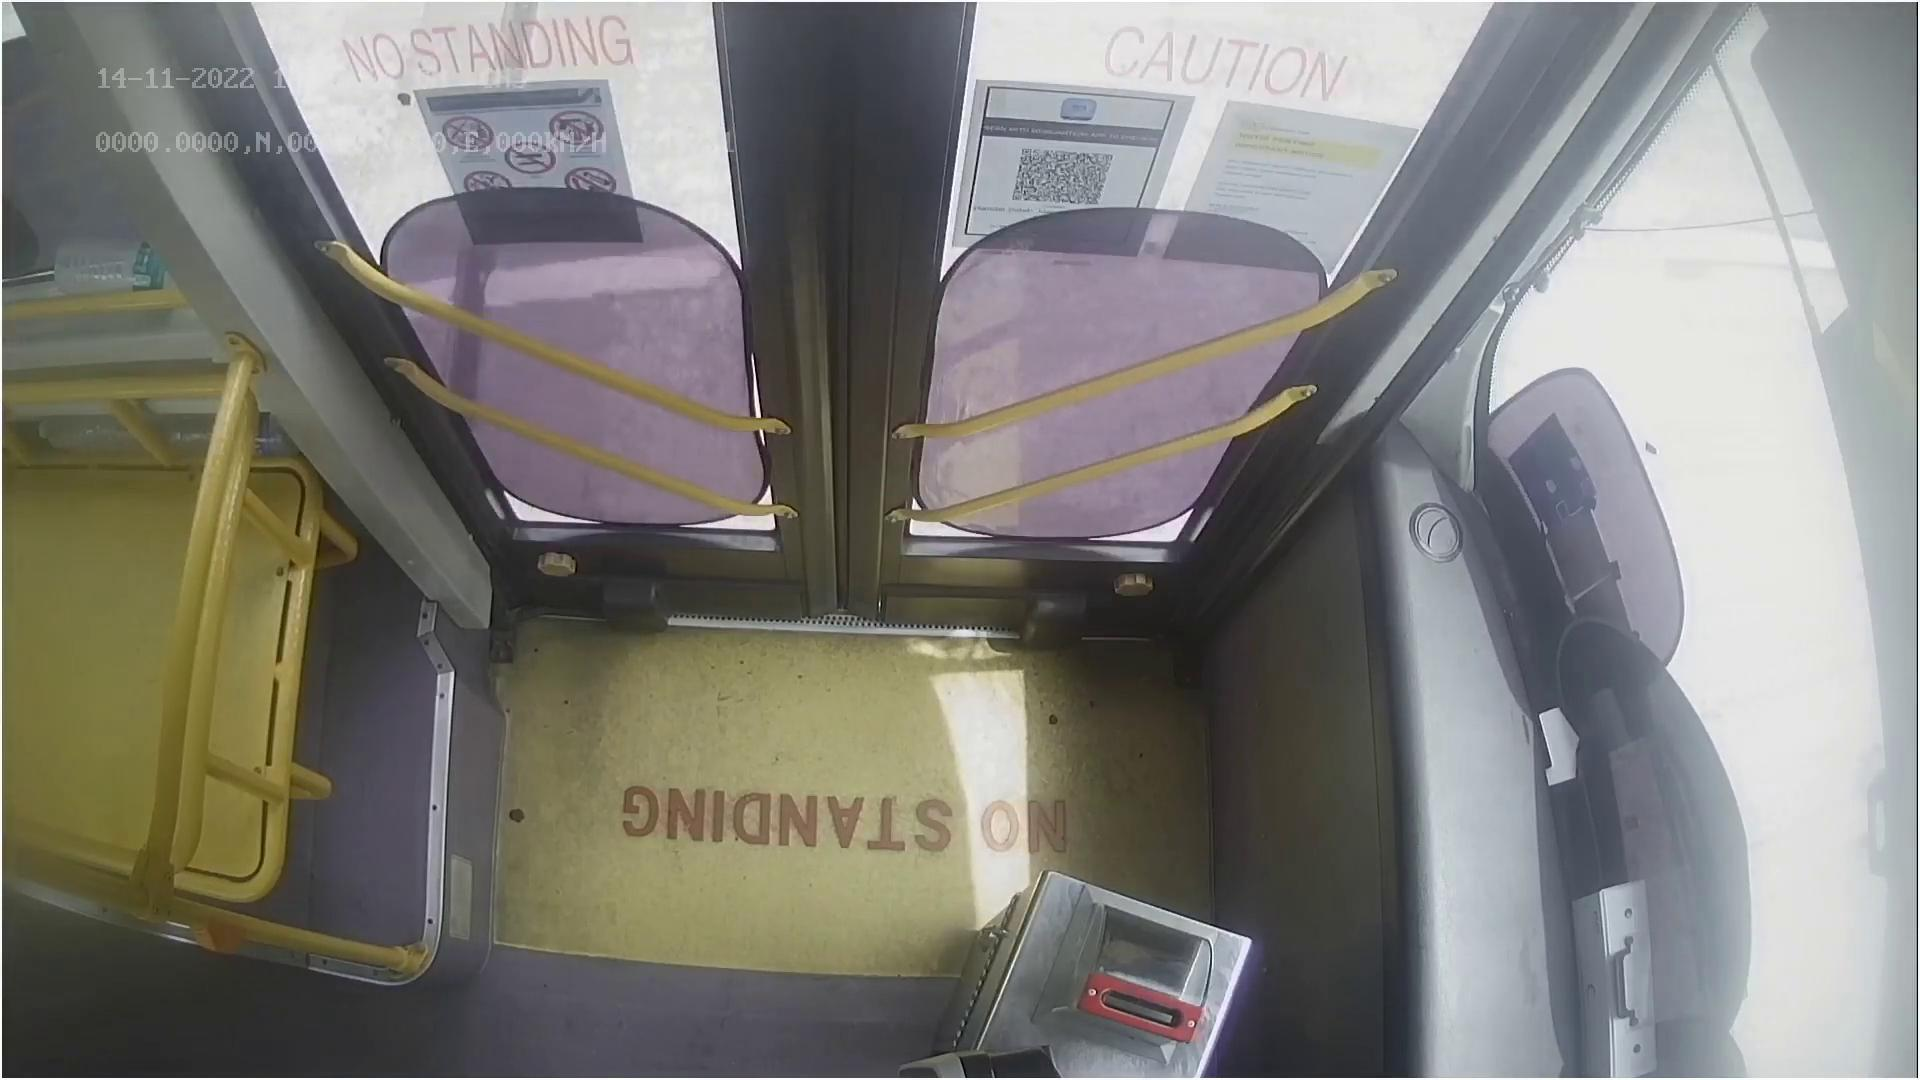close: (286, 0, 1433, 157)
